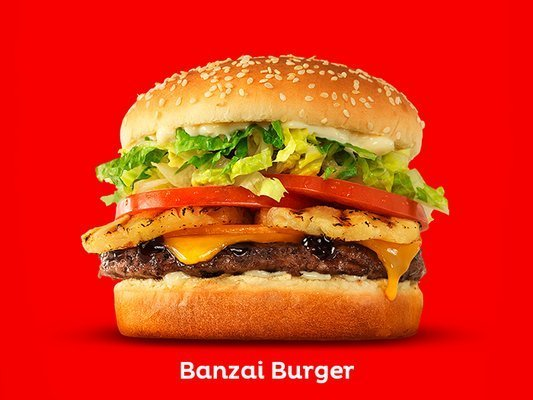soup: (87, 53, 451, 343)
